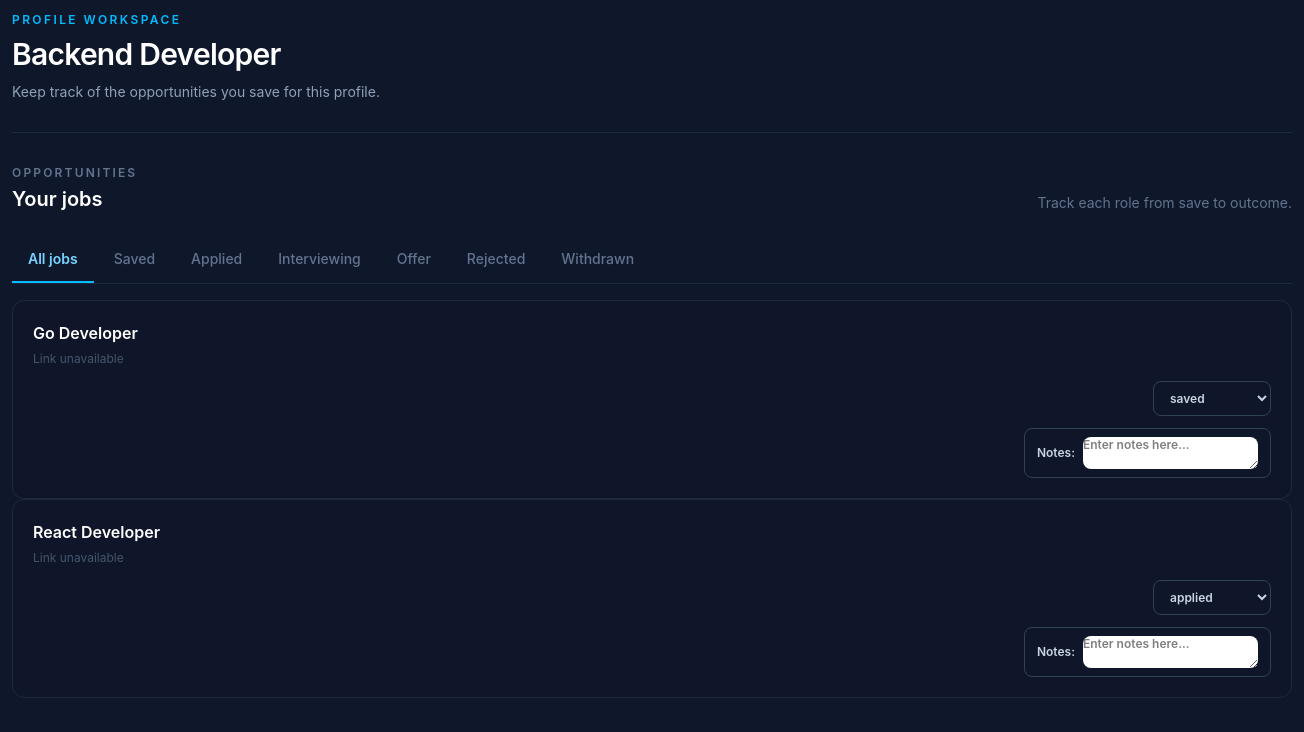
filters fetched jobs by status and returns to all jobs
The image size is (1304, 732).
Check: the heading "Go Developer" is shown, box [33,323,138,343]
Check: the heading "React Developer" is shown, box [33,522,160,542]
Click the button "saved".
click(134, 260)  # box [98,237,171,283]
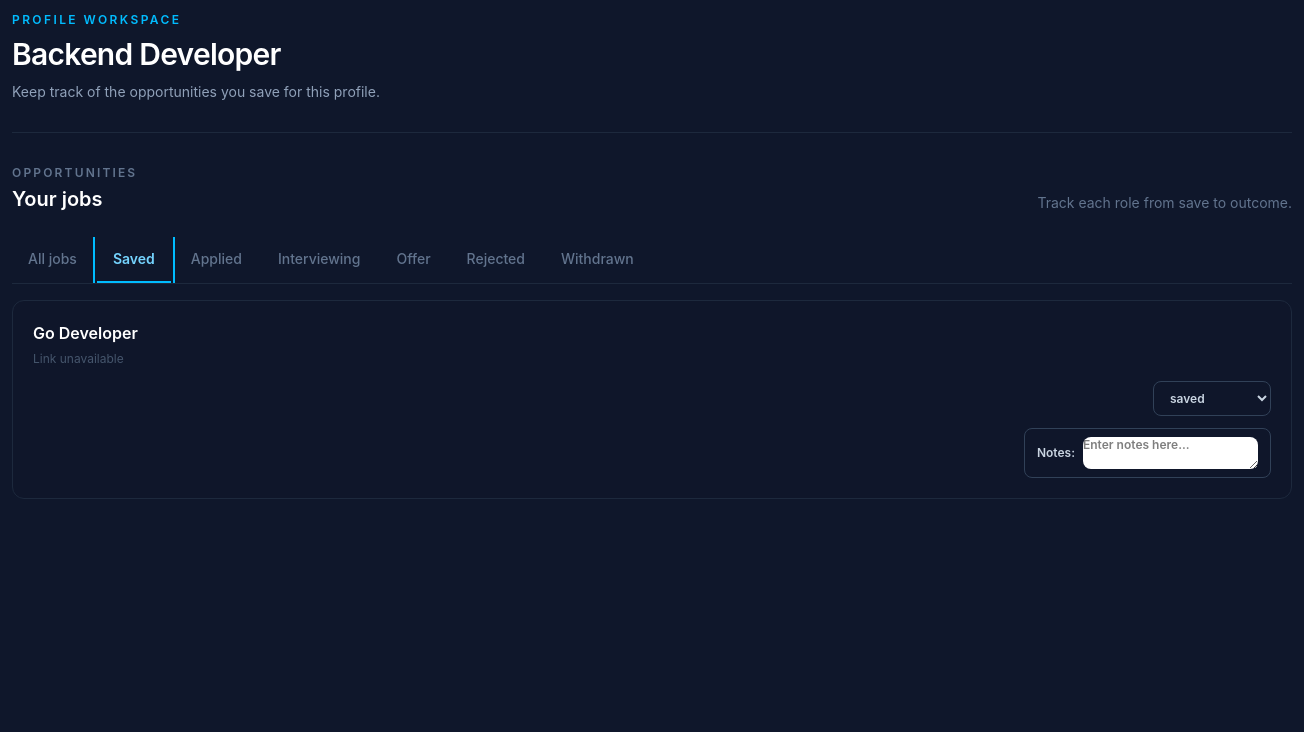
Check: the heading "Go Developer" is shown, box [33,323,138,343]
Check: the heading "React Developer" is gone
Click the button "interviewing".
click(319, 260)  # box [262,237,376,283]
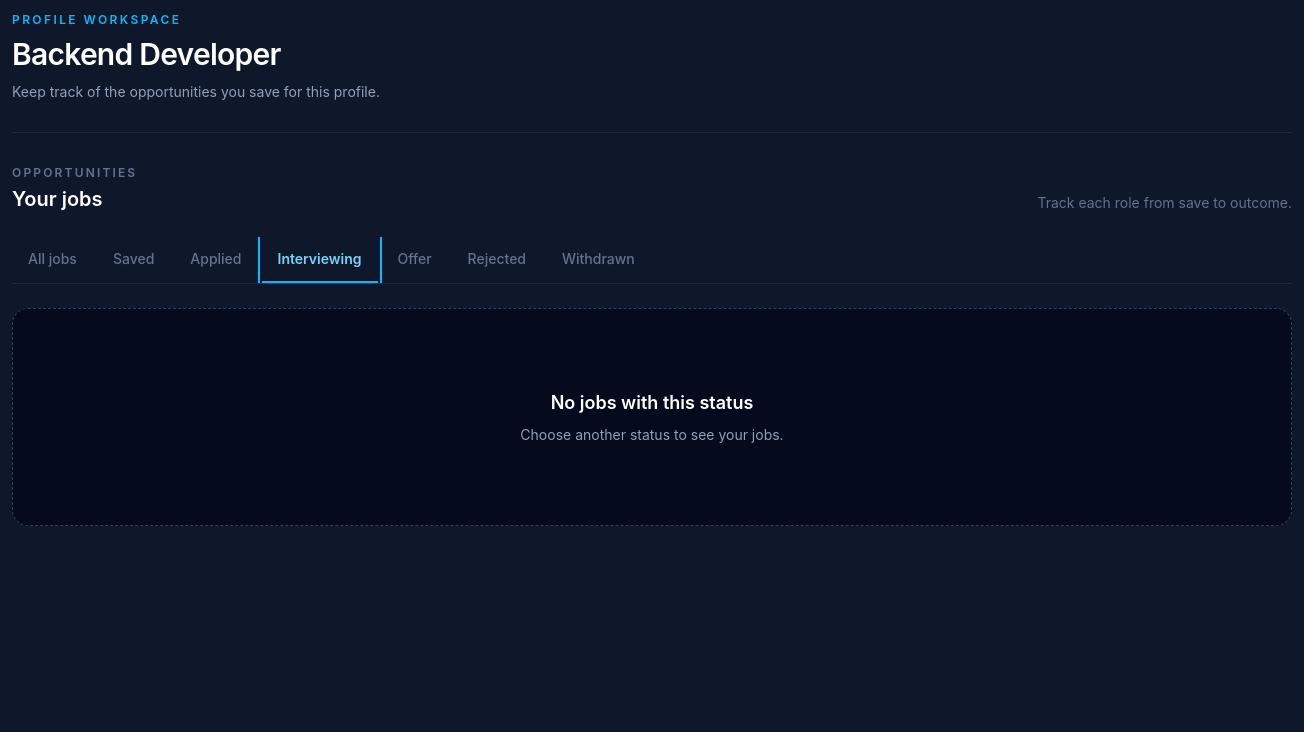
Check: the heading "No jobs with this status" is shown, box [551,392,753,413]
Click the button "All jobs".
click(52, 260)  # box [12,237,93,283]
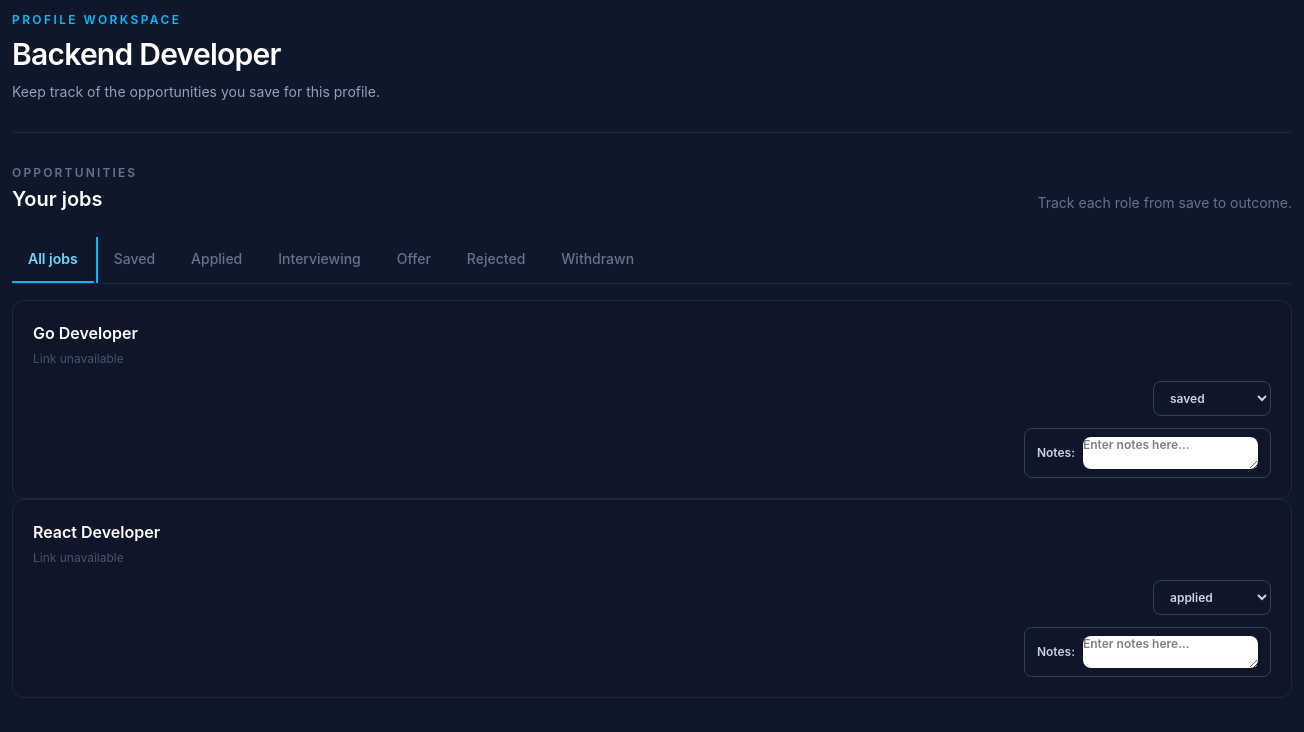
Check: the heading "Go Developer" is shown, box [33,323,138,343]
Check: the heading "React Developer" is shown, box [33,522,160,542]
